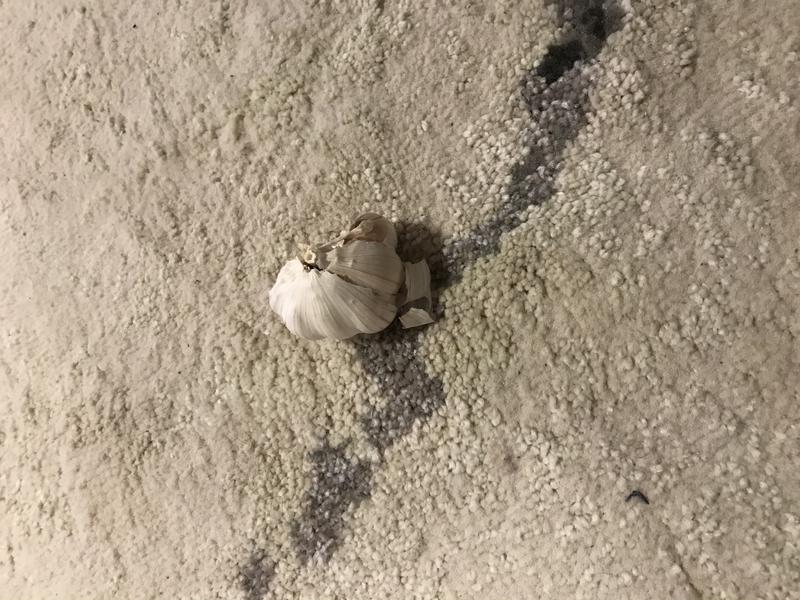garlic: (258, 210, 449, 341)
